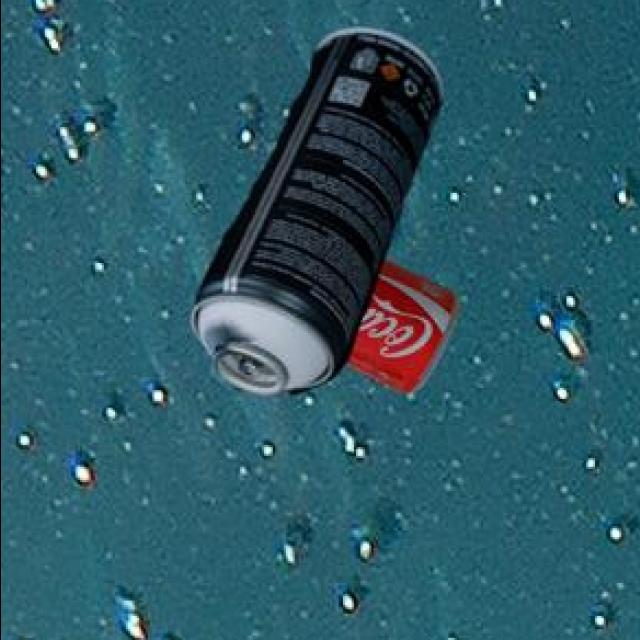logam: (187, 32, 439, 400), (341, 262, 455, 398)
